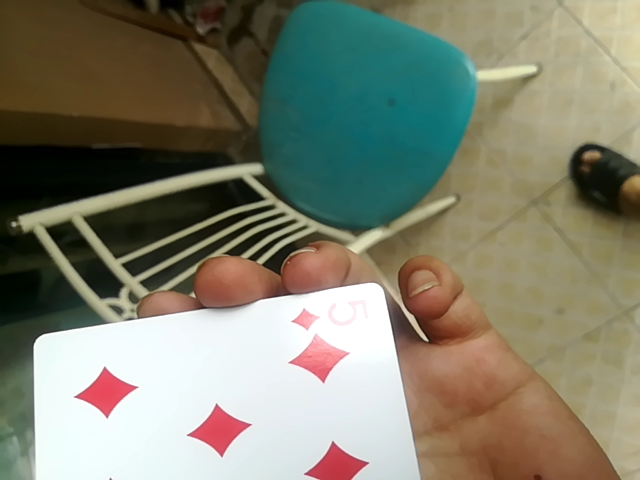fk 5: (25, 279, 430, 478)
